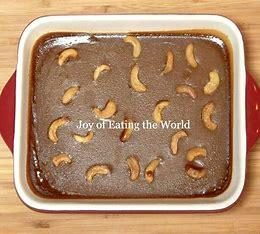Watalappam: (29, 20, 234, 206)
